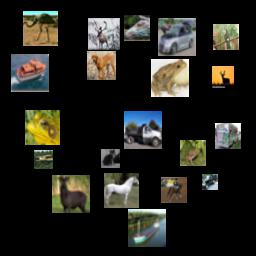airplane: (34, 150, 53, 169)
automobile: (158, 18, 196, 56)
bird: (23, 11, 58, 46), (213, 24, 239, 50)
cat: (101, 149, 120, 168)
deer: (52, 175, 90, 213), (88, 18, 120, 50), (212, 66, 234, 88)
dog: (87, 51, 116, 80)
frog: (151, 59, 189, 97), (25, 110, 60, 145), (180, 140, 206, 166)
ship: (11, 54, 49, 92), (128, 209, 166, 247)
truck: (124, 111, 162, 149), (215, 123, 241, 149), (202, 174, 218, 190)
